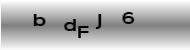6: (121, 10, 135, 25)
F: (76, 25, 90, 40)
J: (94, 13, 103, 30)
b: (32, 13, 47, 27)
d: (62, 18, 77, 32)
